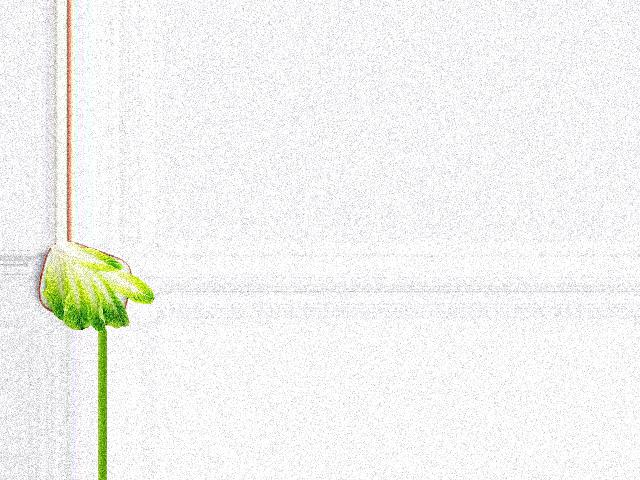lettuce: (37, 244, 156, 332)
